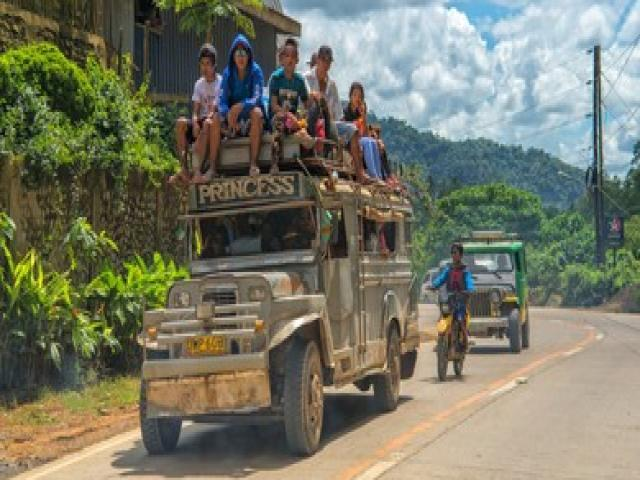jeepney: (130, 160, 418, 455), (463, 234, 532, 354)
